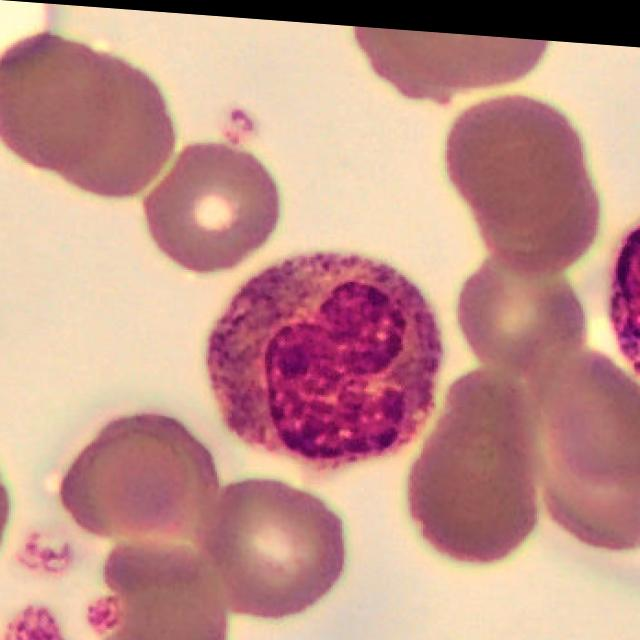Neutrofilo segmentado: (210, 249, 441, 459)
